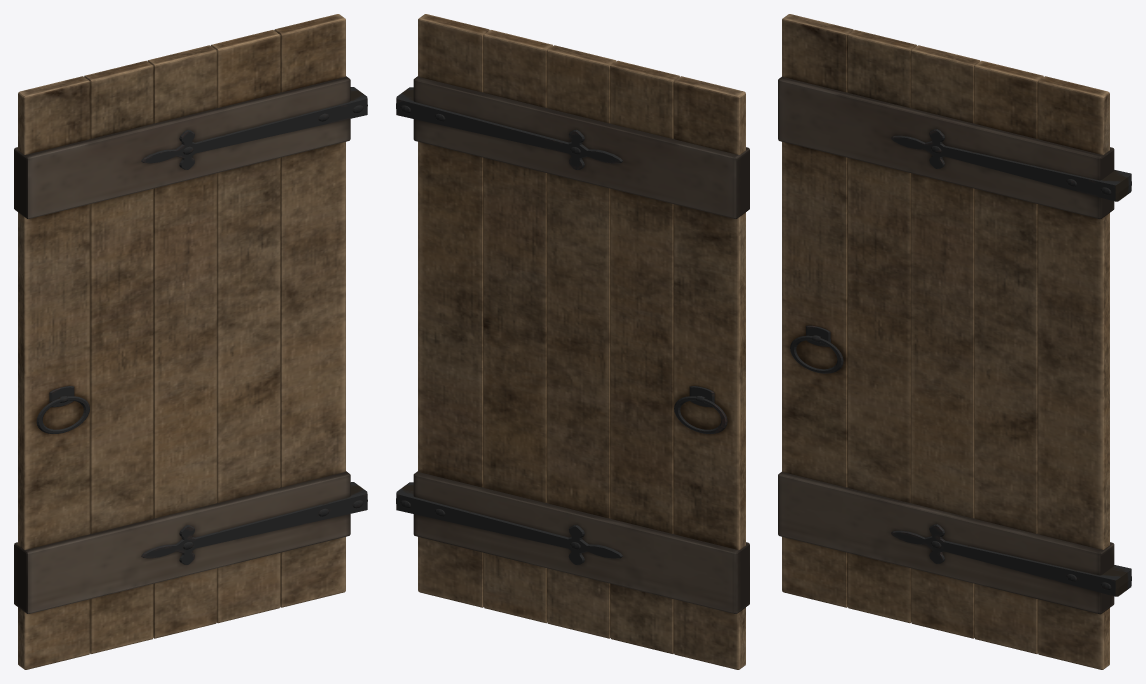
The model's file is BW_Merchant01_CustomerDoor.fbx.
3 views of the same model, side by side, from view 1: azimuth 30°, elevation 25°; view 2: azimuth 150°, elevation 25°; view 3: azimuth 330°, elevation 25° (orthographic).
Visible parts, largest first — view 1: BW_Merchant01_CustomerDoor; view 2: BW_Merchant01_CustomerDoor; view 3: BW_Merchant01_CustomerDoor.
Boxes of the visible parts, <box> form: BW_Merchant01_CustomerDoor: <box>14,14,367,669</box>; BW_Merchant01_CustomerDoor: <box>396,14,749,669</box>; BW_Merchant01_CustomerDoor: <box>778,14,1131,669</box>.
Bounding box in the file's own units: 1.47 × 2.36 × 0.1318.
